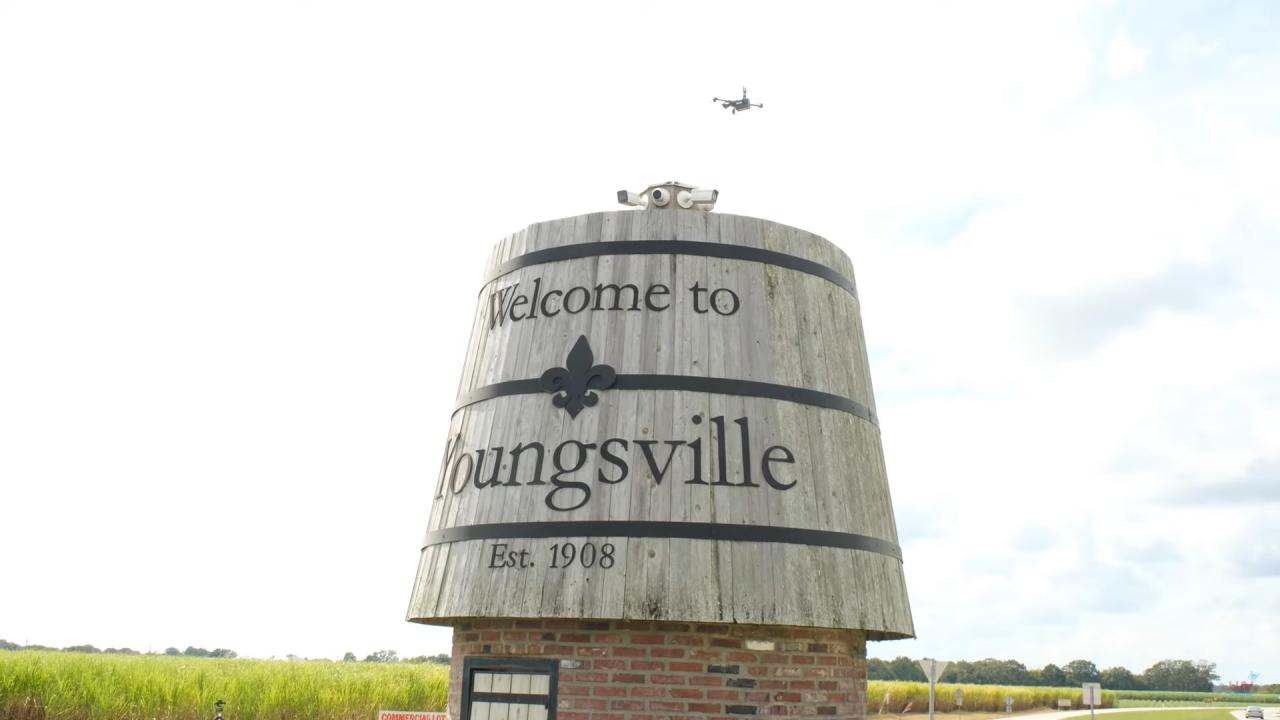Drone: (706, 78, 776, 125)
